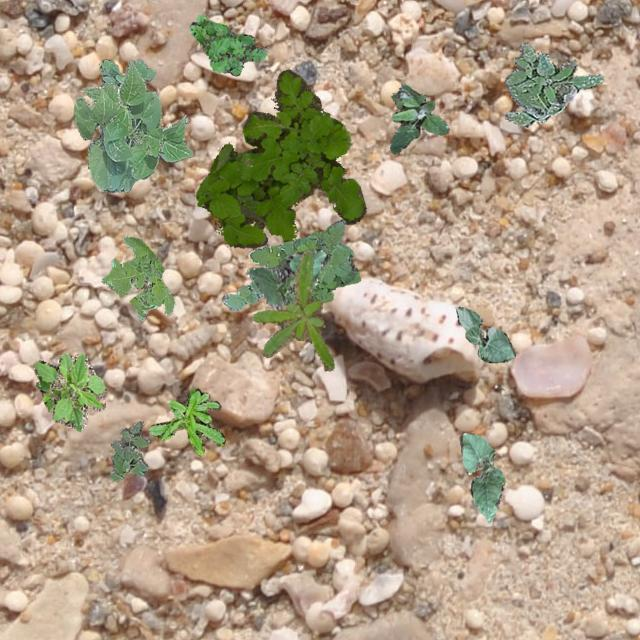crop: (72, 58, 192, 192), (245, 248, 328, 308), (458, 432, 504, 520), (455, 306, 513, 362)
weed: (194, 68, 366, 246), (220, 218, 360, 310), (252, 250, 332, 370), (502, 41, 602, 126), (100, 234, 173, 320), (32, 352, 106, 431), (148, 388, 225, 454), (188, 14, 268, 74), (388, 82, 448, 152), (108, 420, 148, 480), (98, 58, 156, 94)
